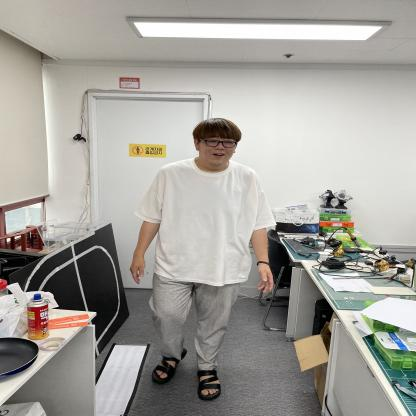normal: (124, 113, 278, 402)
